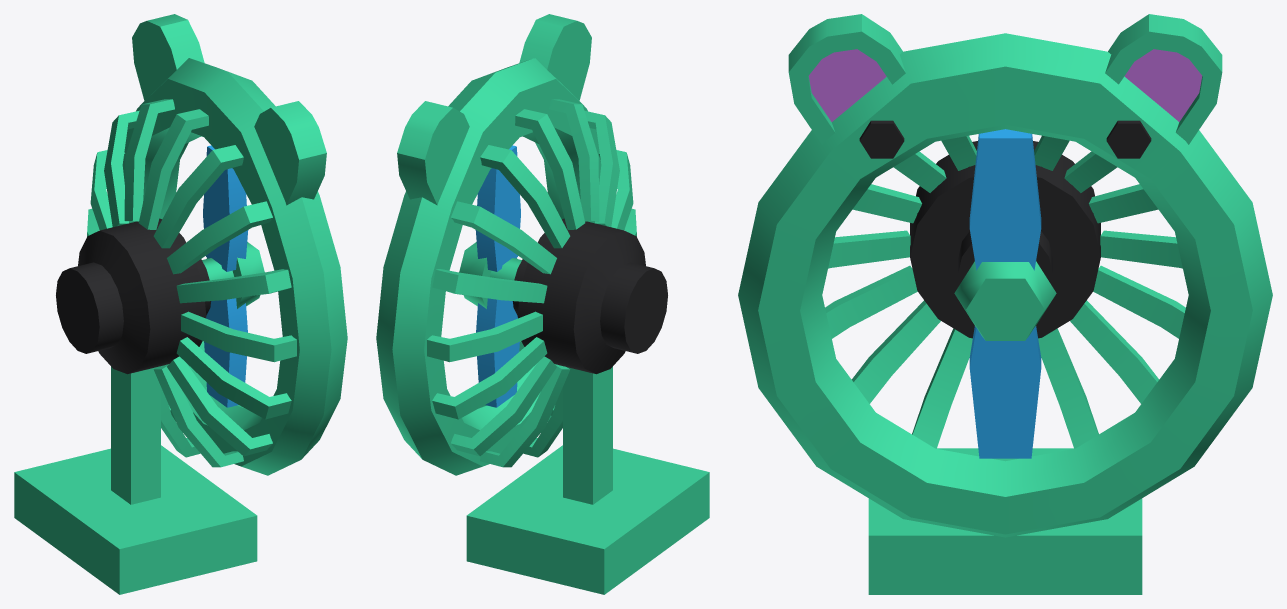
Rendered from Fan.fbx.
3 views of the same model, side by side, from view 1: azimuth 30°, elevation 25°; view 2: azimuth 150°, elevation 25°; view 3: azimuth 270°, elevation 25° (orthographic). The views are drawn at different scales.
Parts seen in each view (by area): view 1: Fan, Blades; view 2: Fan, Blades; view 3: Fan, Blades.
Boxes of the visible parts, x1,y1,x2,y2 form: Fan: [14, 14, 347, 594]; Blades: [202, 145, 264, 407]; Fan: [376, 14, 709, 594]; Blades: [459, 145, 521, 407]; Fan: [738, 14, 1272, 594]; Blades: [954, 129, 1056, 458].
Bounding box in the file's own units: 137 × 313 × 258.
